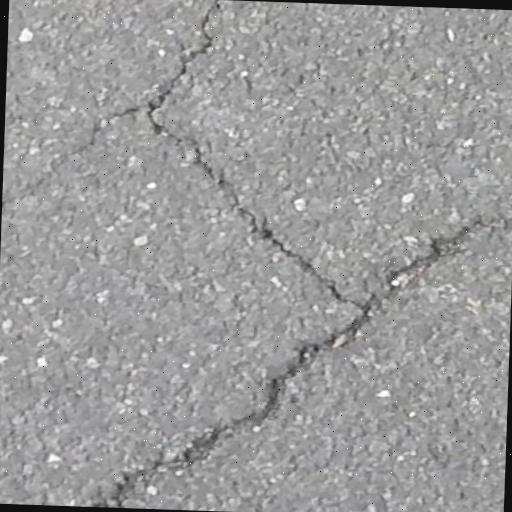spalling: (91, 206, 488, 506), (133, 0, 346, 299)
